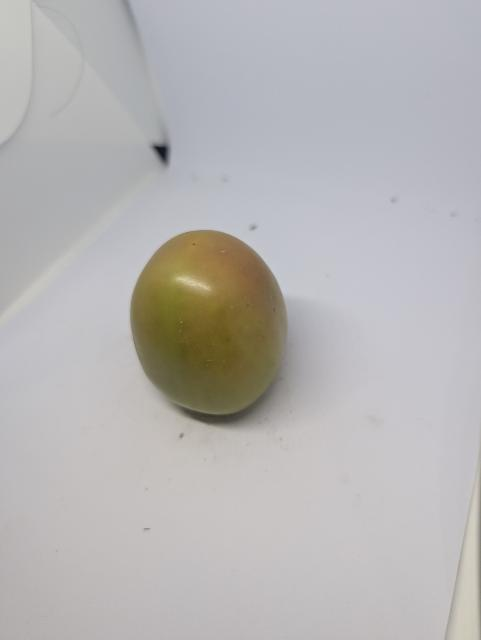breaker: (131, 230, 288, 414)
